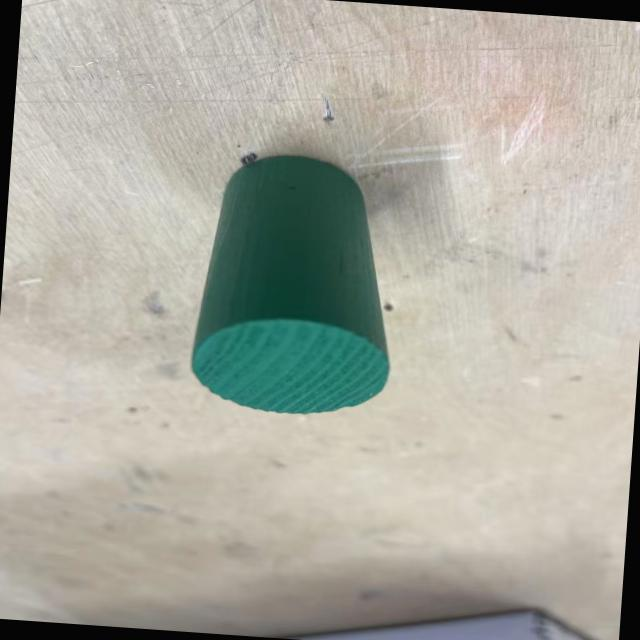green_cylinder: (186, 146, 404, 422)
